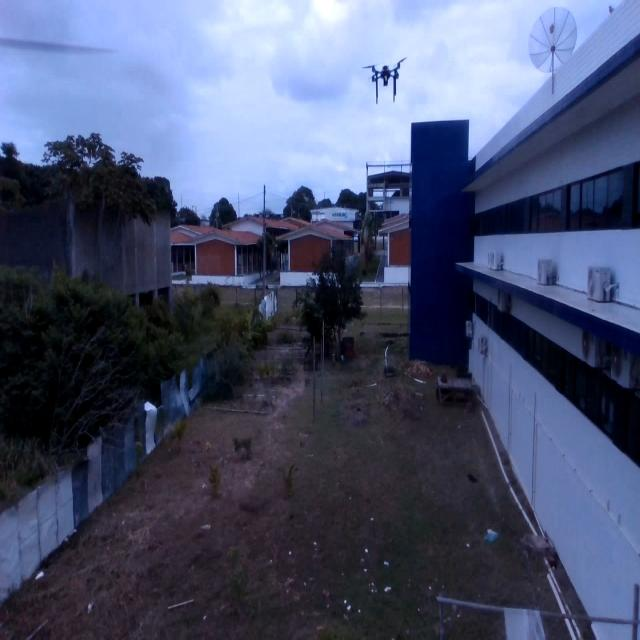-uav-: (358, 52, 415, 111)
